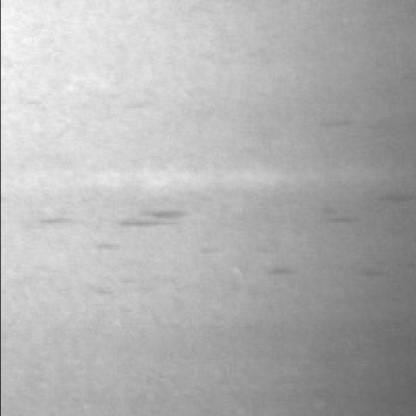inclusion: (110, 200, 185, 235)
